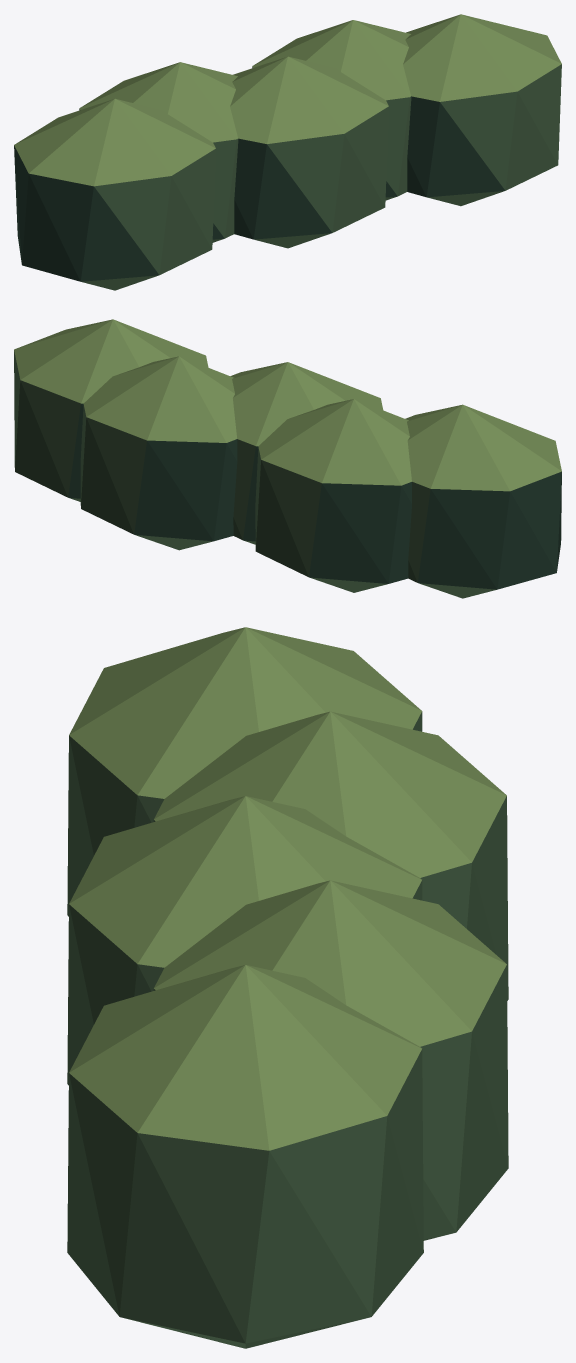
Rendered from TW_VEG_BUSH_LONG_B_LOD0.glb.
3 renders of one model, top to bottom at view 1: azimuth 30°, elevation 25°; view 2: azimuth 150°, elevation 25°; view 3: azimuth 270°, elevation 25°, orthographic. The views are drawn at different scales.
Parts seen in each view (by area): view 1: TW_VEG_BUSH_LONG_B_LOD0; view 2: TW_VEG_BUSH_LONG_B_LOD0; view 3: TW_VEG_BUSH_LONG_B_LOD0.
Boxes of the visible parts, box(x1,y1,x2,y2) form: TW_VEG_BUSH_LONG_B_LOD0: box(14, 14, 561, 290); TW_VEG_BUSH_LONG_B_LOD0: box(14, 319, 561, 598); TW_VEG_BUSH_LONG_B_LOD0: box(67, 627, 508, 1348).
Size of the model in its own units: 2.03 by 0.7 by 0.7289.
1 material, 1 textured.
